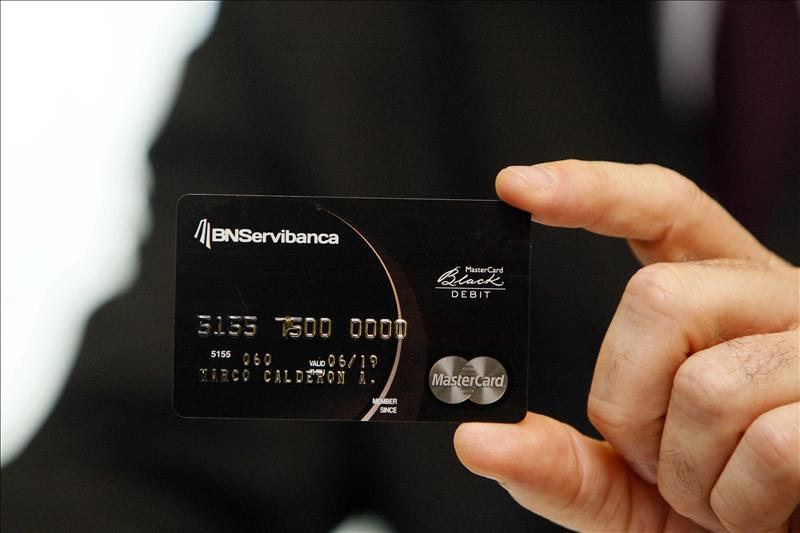tarjeta: (172, 192, 532, 424)
